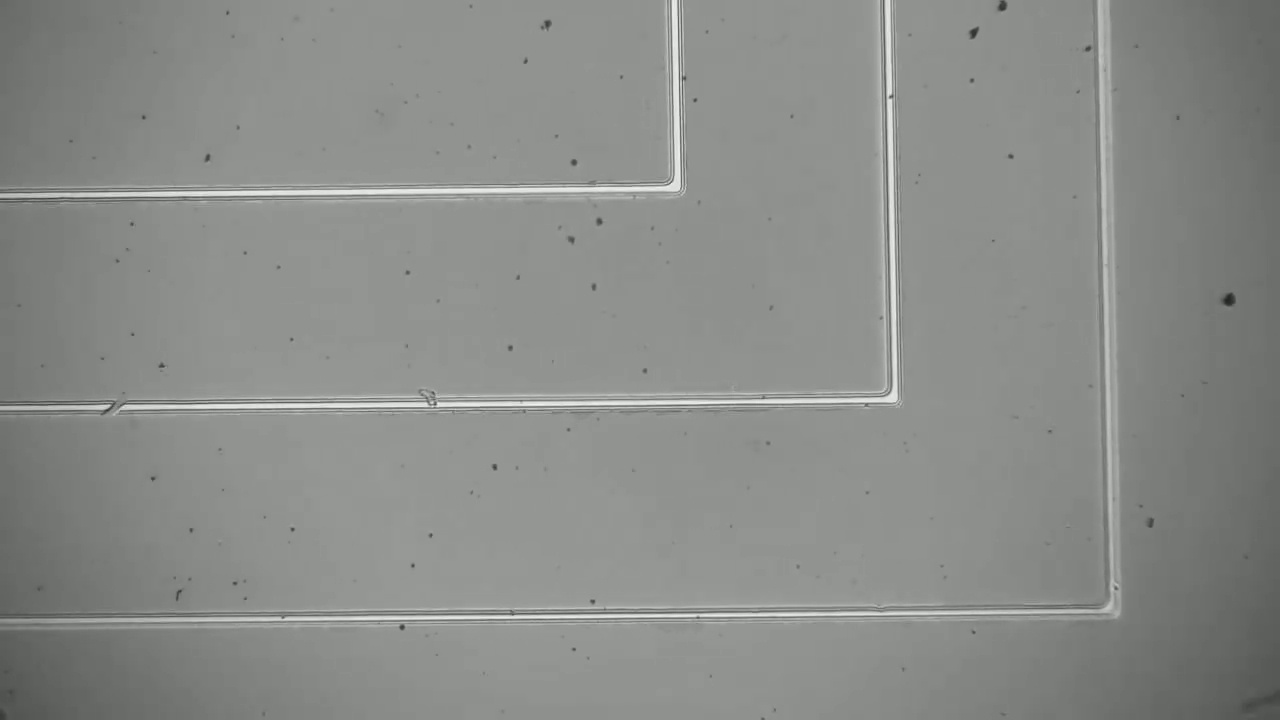open: (88, 386, 141, 433)
stains_enbedded: (407, 381, 452, 421)
